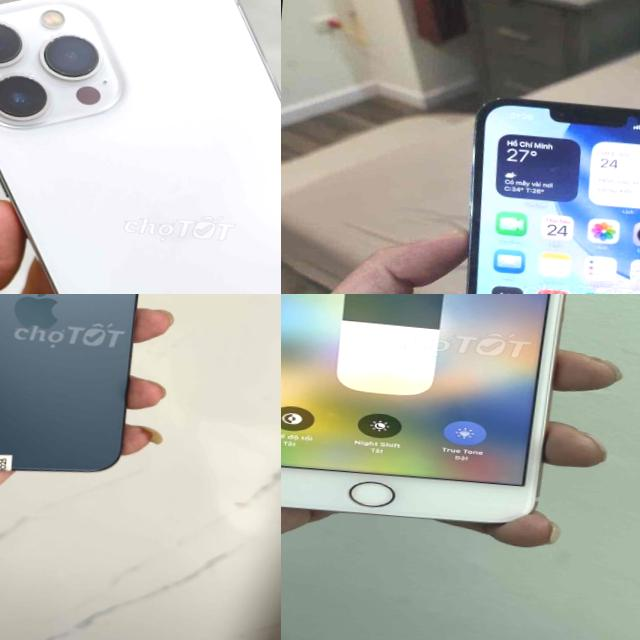gen_12_13: (0, 0, 281, 294), (434, 79, 640, 294), (0, 294, 154, 486)
gen_7_8: (281, 294, 590, 540)
